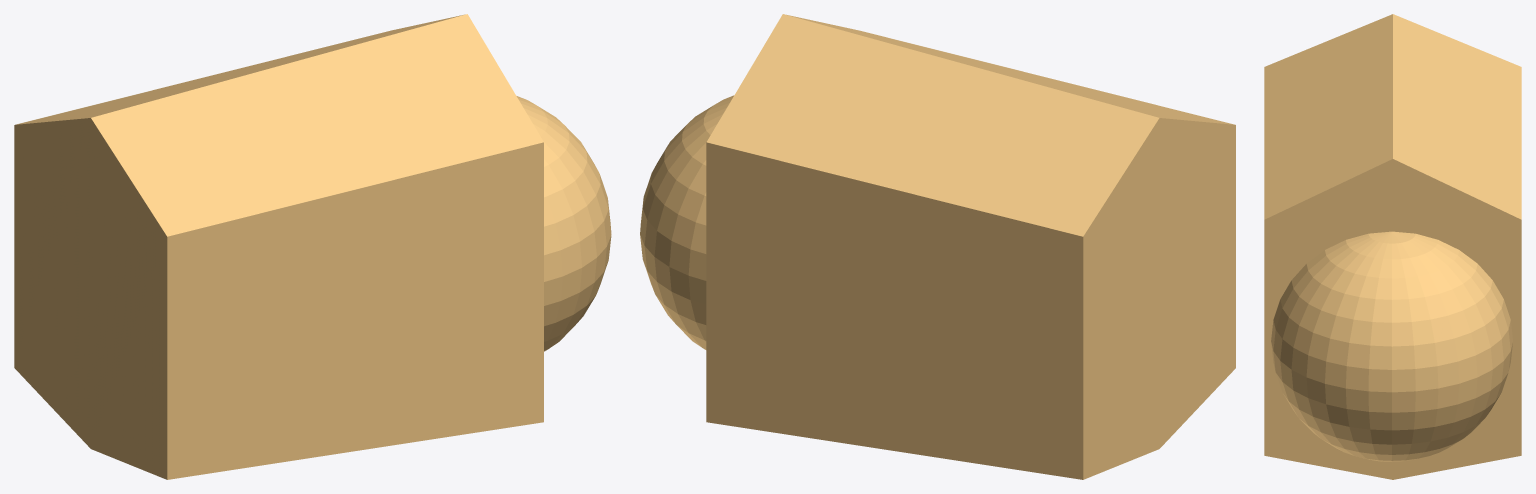
The model's file is R_finger3_0.obj.
The picture shows the model from 3 angles, left to right: view 1: azimuth 30°, elevation 25°; view 2: azimuth 150°, elevation 25°; view 3: azimuth 270°, elevation 25°; orthographic projection. The views are drawn at different scales.
Visible parts, largest first — view 1: finger3_0球.001_球.022; view 2: finger3_0球.001_球.022; view 3: finger3_0球.001_球.022.
Part boxes in pixels (box(x1,y1,x2,y2)): finger3_0球.001_球.022: box(14, 14, 611, 479); finger3_0球.001_球.022: box(640, 14, 1235, 479); finger3_0球.001_球.022: box(1264, 14, 1521, 479).
Size of the model in its own units: 0.6211 by 0.4513 by 0.328.
